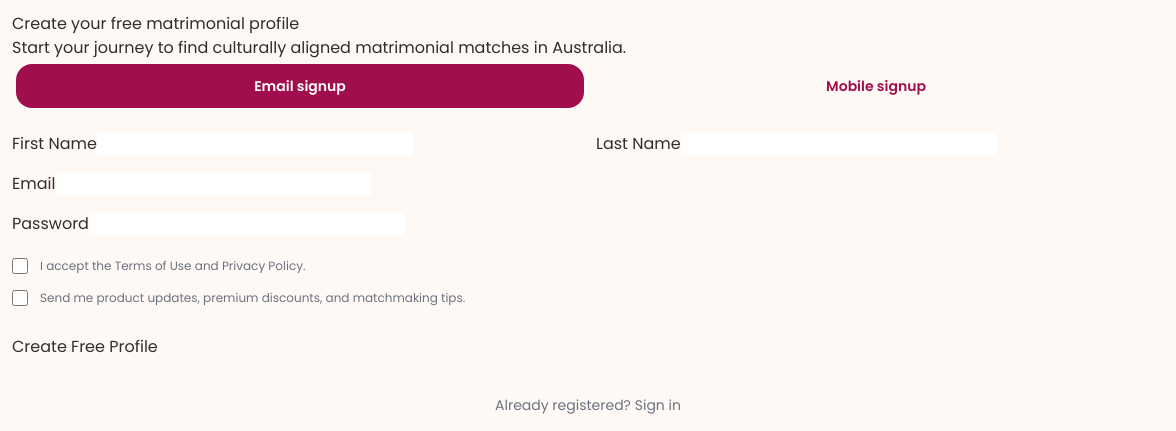
Test case: RegisterPage › submits email registration payload and shows success feedback
The width and height of the screenshot is (1176, 431).
Type "Priya" into the field labelled "First Name".
click(255, 144); type("Priya")  # box x1=97 y1=132 x2=413 y2=156
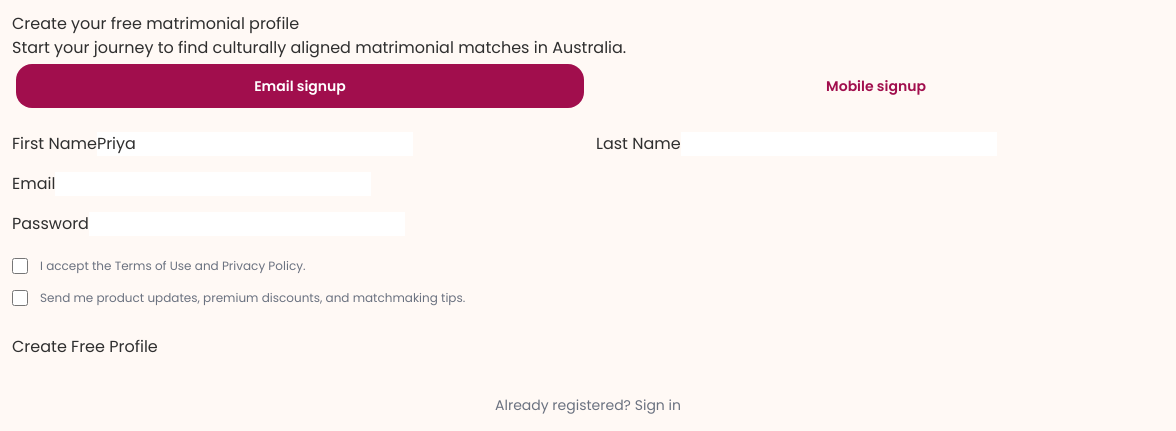
Type "Sharma" into the field labelled "Last Name".
click(839, 144); type("Sharma")  # box x1=681 y1=132 x2=997 y2=156
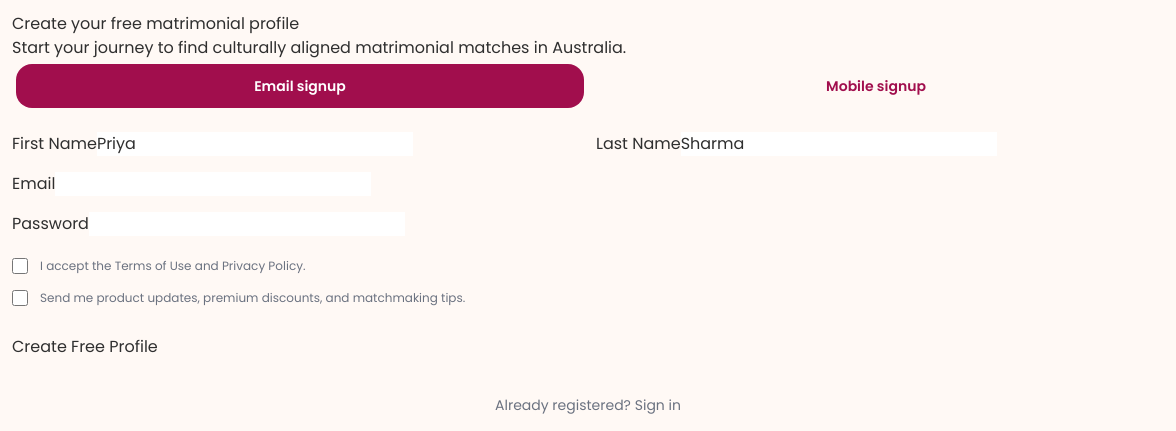
Type "priya@example.com" into the field labelled "Email".
click(213, 184); type("priya@example.com")  # box x1=55 y1=172 x2=371 y2=196
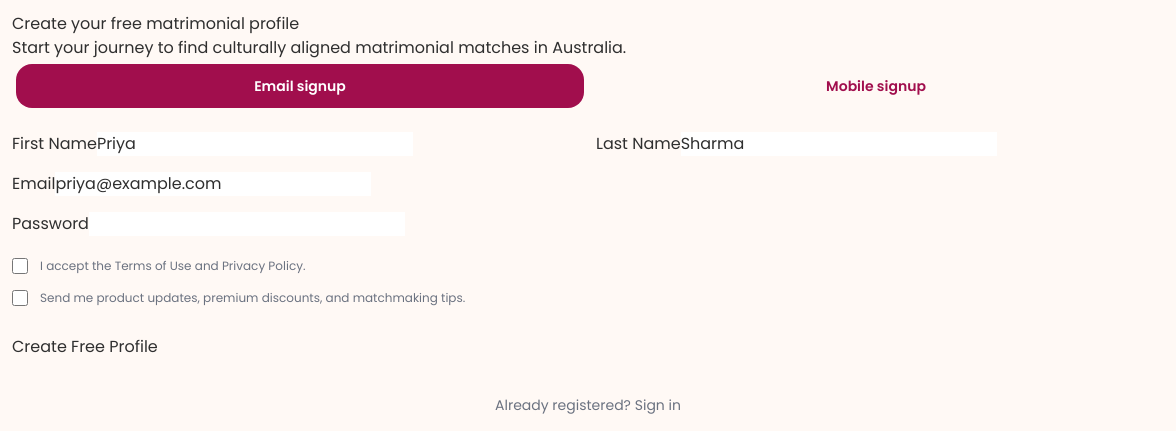
Type "StrongPassword123!" into the password field labelled "Password".
click(247, 224); type("StrongPassword123!")  # box x1=89 y1=212 x2=405 y2=236
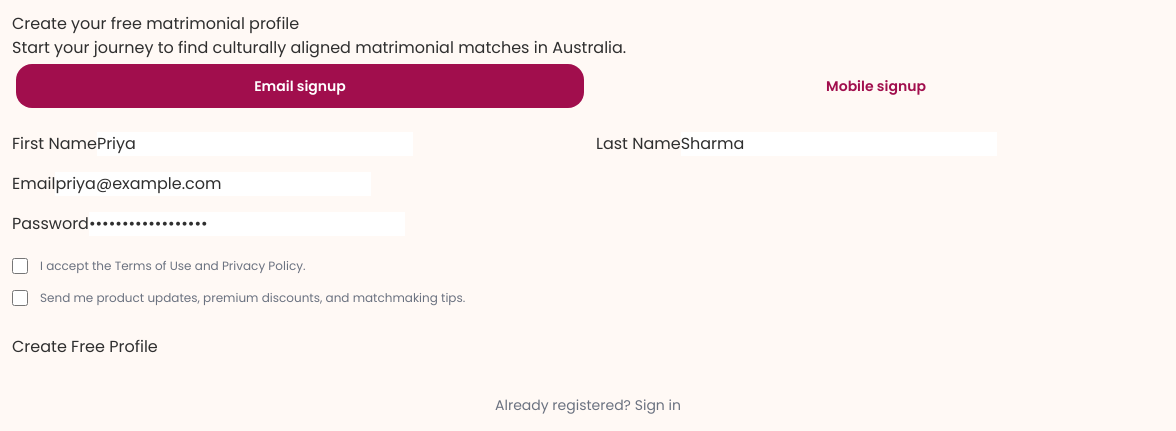
Click the checkbox labelled "I accept the Terms of Use and Privacy Policy .".
click(20, 266)  # box x1=12 y1=258 x2=28 y2=274
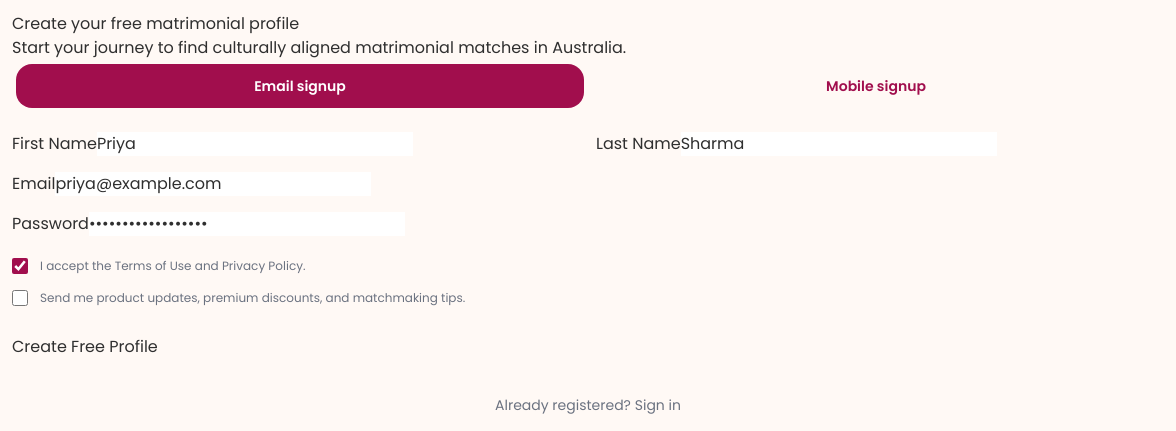
Click the button "Create Free Profile".
click(85, 347)  # box x1=12 y1=335 x2=158 y2=359
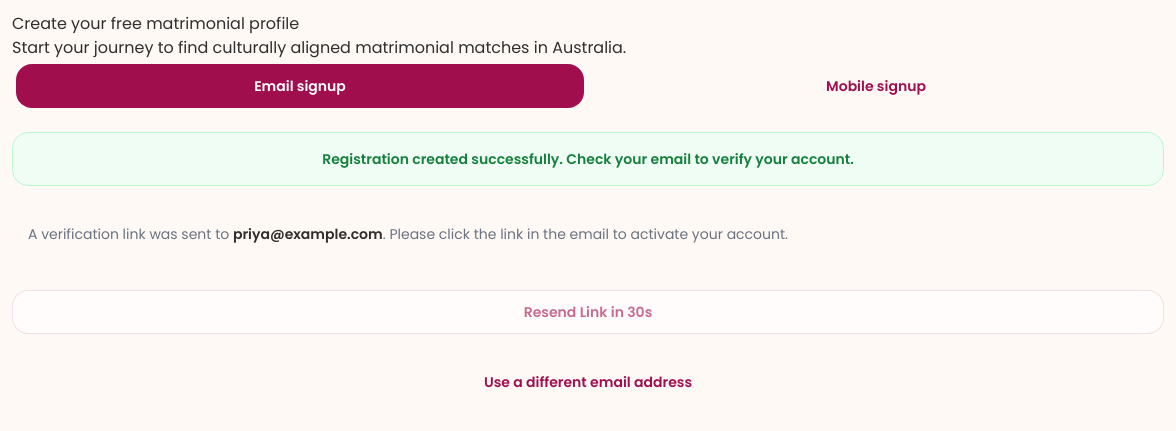
Result: the text "Registration created successfully. Check your email to verify your account." is shown at x1=12 y1=132 x2=1164 y2=186
